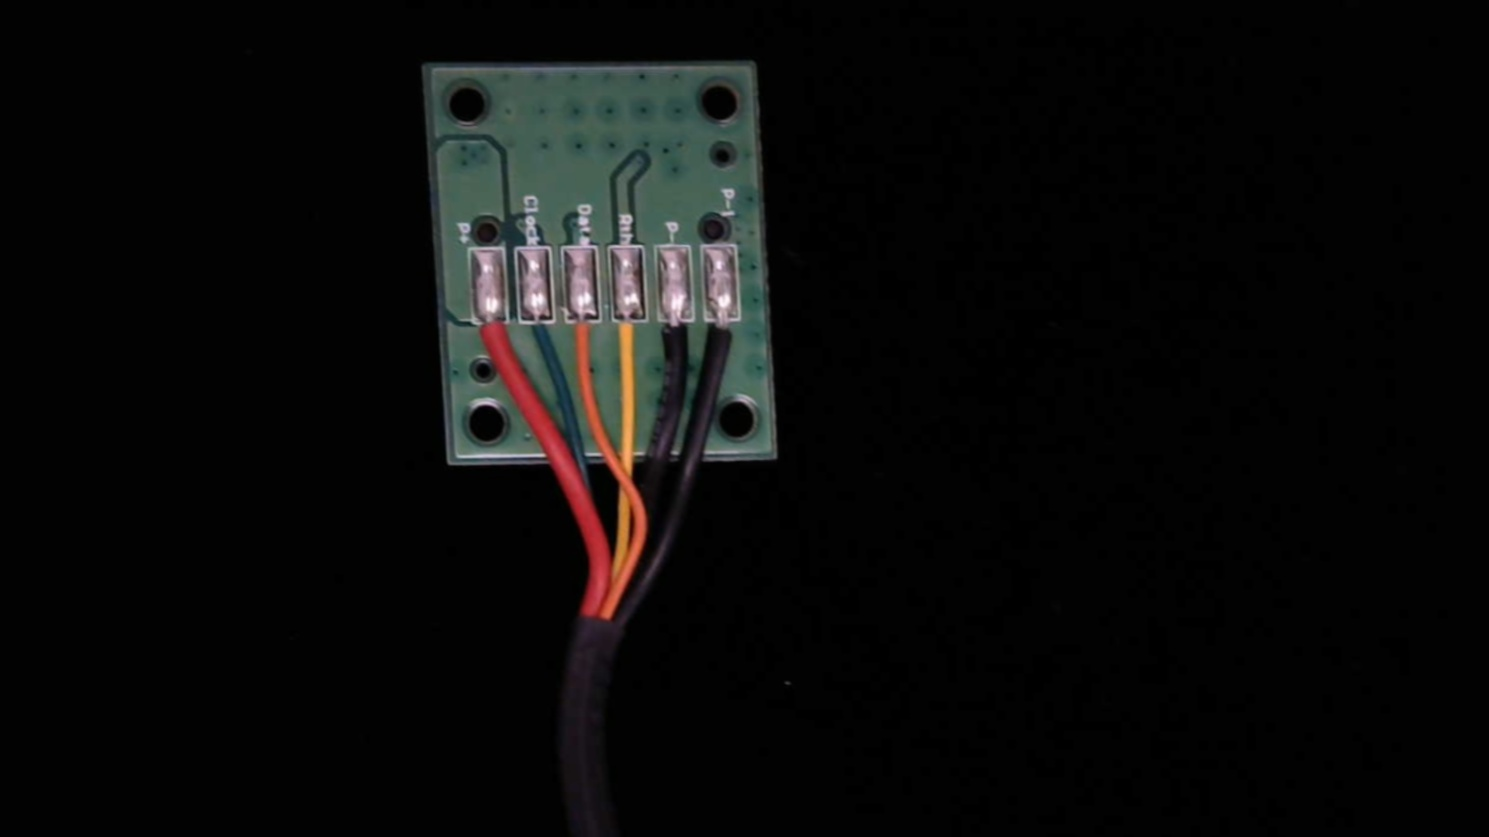Black: (652, 305, 700, 382)
Black1: (704, 303, 747, 384)
Green: (520, 302, 556, 373)
Orange: (563, 305, 603, 379)
Red: (470, 306, 512, 376)
Yellow: (610, 304, 650, 383)
